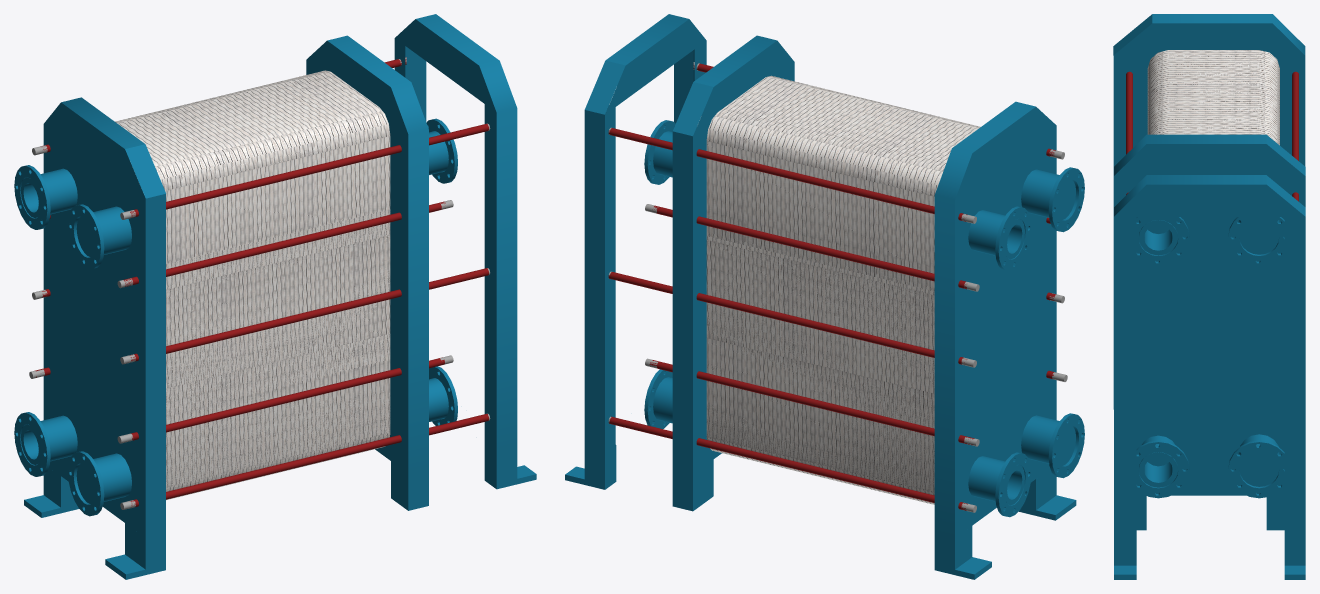
The model's file is plate_heat_exchanger.obj.
3 renders of one model, left to right at view 1: azimuth 30°, elevation 25°; view 2: azimuth 150°, elevation 25°; view 3: azimuth 270°, elevation 25°, orthographic. The views are drawn at different scales.
Parts seen in each view (by area): view 1: ___, ___.1, __, __.2, __.1, __.3; view 2: ___, ___.1, __, __.2, __.1, __.3; view 3: ___, ___.1, __.2, __, __.1, __.3.
Part boxes in pixels (x1,y1,x2,y2): ___: (24,35,428,579); ___.1: (394,14,536,489); __: (20,57,488,506); __.2: (14,57,490,516); __.1: (15,123,453,510); __.3: (20,131,448,218); ___: (672,35,1076,579); ___.1: (565,14,706,489); __: (608,63,1075,510); __.2: (608,62,1084,517); __.1: (649,124,1083,512); __.3: (968,210,1024,259); ___: (1113,14,1305,530); ___.1: (1114,175,1305,579); __.2: (1136,217,1284,498); __: (1126,71,1298,487); __.1: (1136,221,1284,495); __.3: (1139,220,1177,255).
Bounding box in the file's own units: 907 × 832 × 375.
